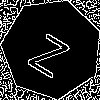Z: (26, 24, 76, 79)
